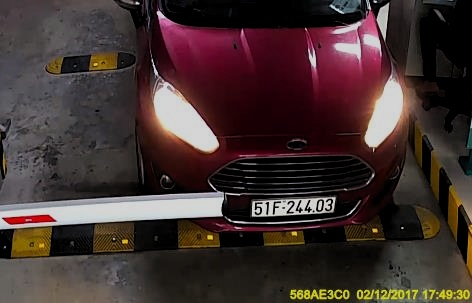plate: (247, 193, 336, 217)
